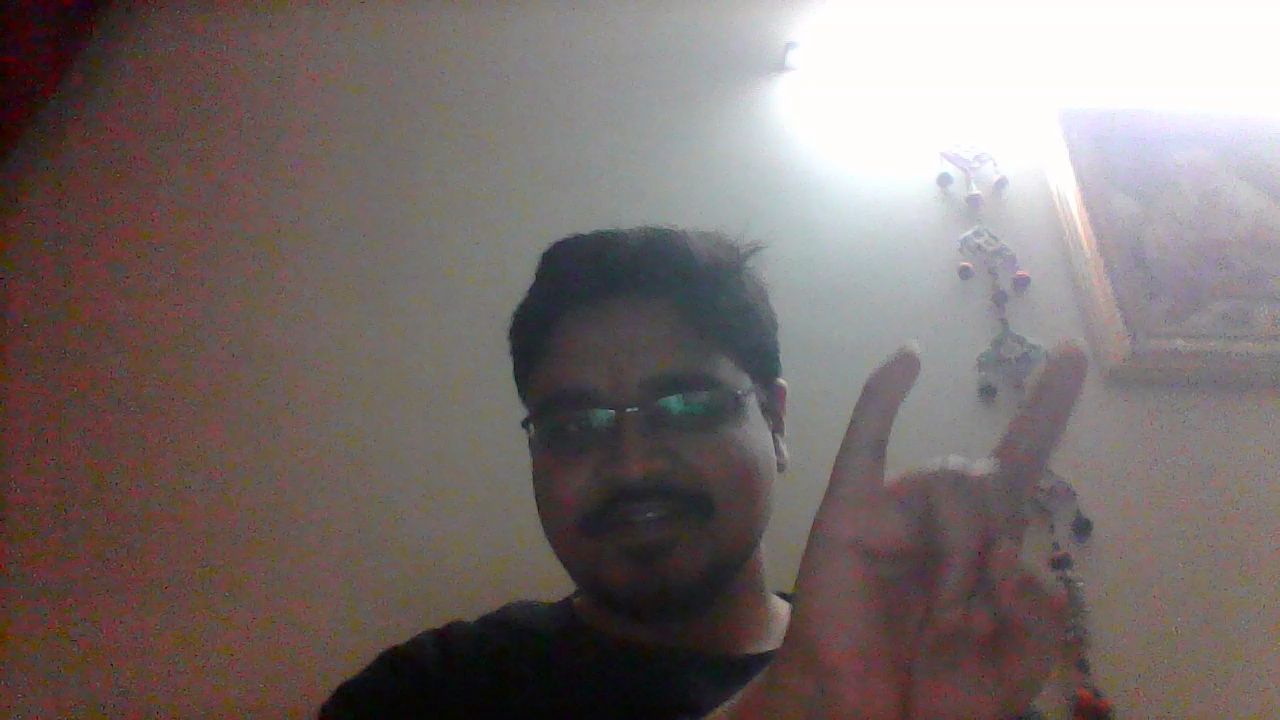ILoveYou: (788, 343, 1091, 713)
